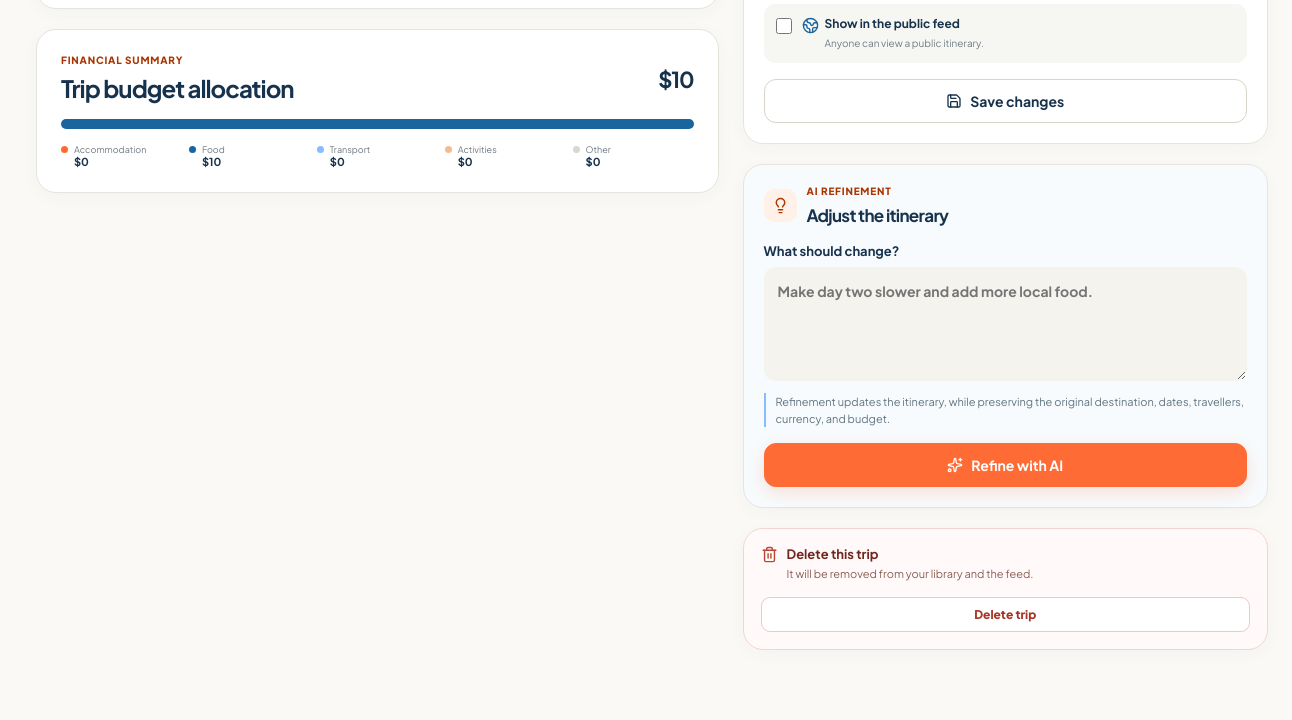
it: SavedTripDetailPage › deletes only after confirmation and returns to the trip library
(page scrolled)
Step 1. Click the button "Delete trip" → [1005, 614], box top-left (760, 597), bottom-right (1250, 632)
(page scrolled)
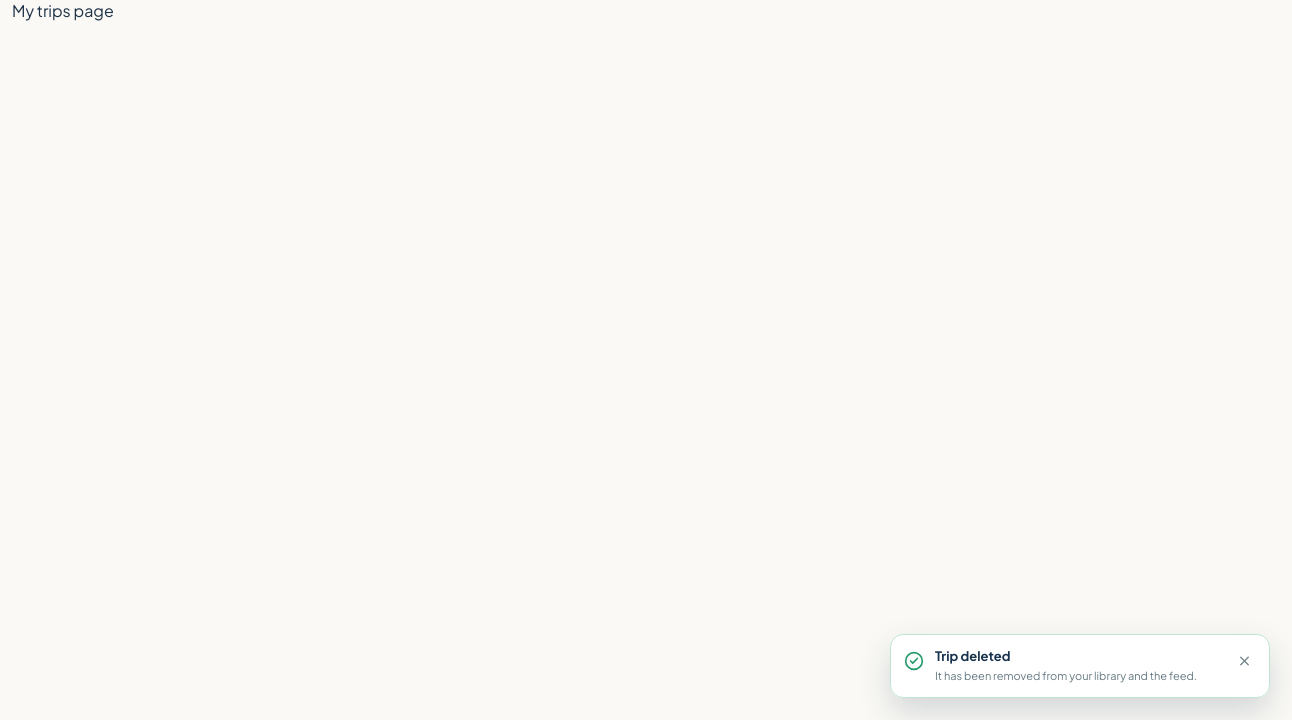
Now the text "My trips page" is shown, box top-left (12, 0), bottom-right (114, 21)
Now the message shows "Trip deleted", box top-left (935, 648), bottom-right (1010, 664)
